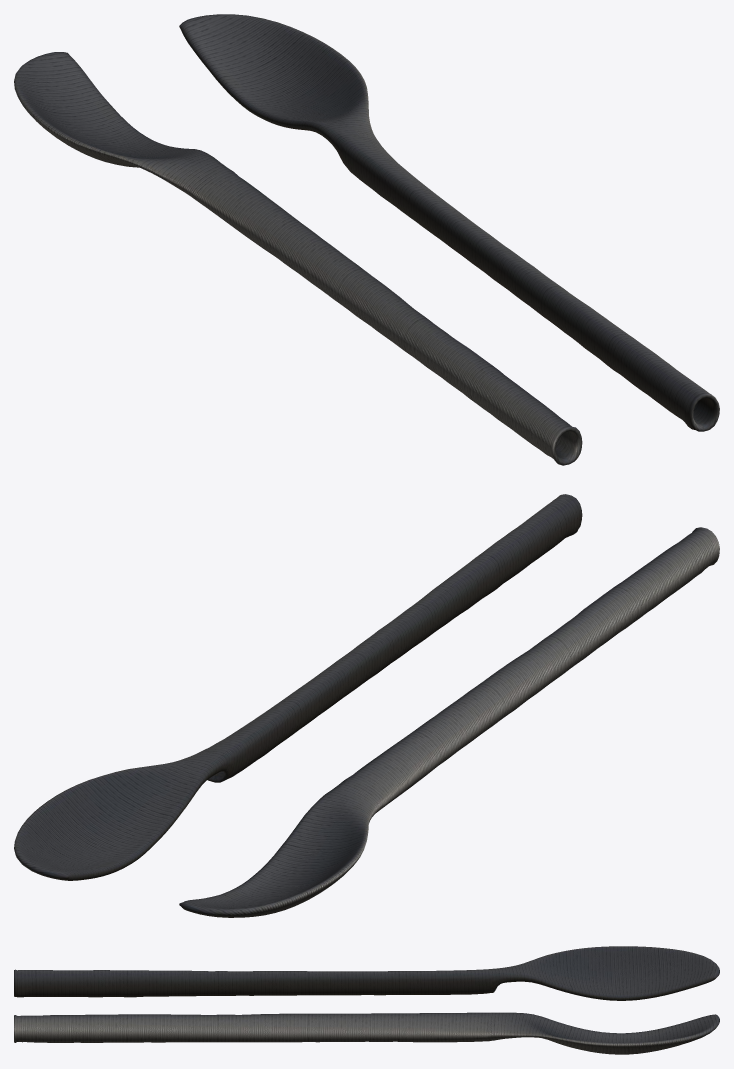
The model's file is 22_Chopoon.glb.
3 renders of one model, top to bottom at view 1: azimuth 30°, elevation 25°; view 2: azimuth 150°, elevation 25°; view 3: azimuth 270°, elevation 25°, orthographic. The views are drawn at different scales.
Parts seen in each view (by area): view 1: 22_Chopoon; view 2: 22_Chopoon; view 3: 22_Chopoon.
Part boxes in pixels (x1=…): 22_Chopoon: x1=14, y1=14, x2=719, y2=465; 22_Chopoon: x1=14, y1=494, x2=719, y2=917; 22_Chopoon: x1=14, y1=946, x2=719, y2=1054.
Size of the model in its own units: 0.0693 by 0.00978 by 0.2106.
Materials: 1 (1 with a texture image).
